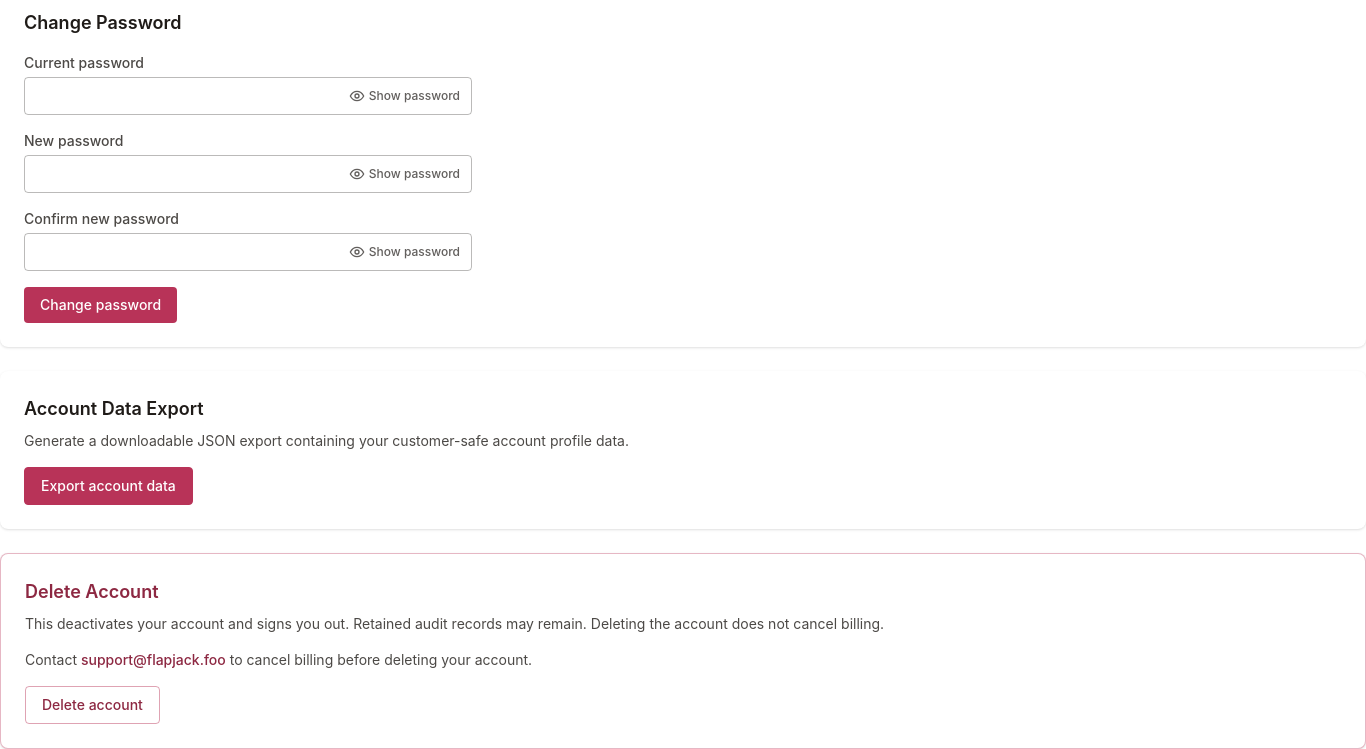
Test case: Account page › resets delete password and confirmation state on cancel before reopening panel
(page scrolled)
Click the button with test id "delete-account-open": [92, 705] box [25,686,160,724]
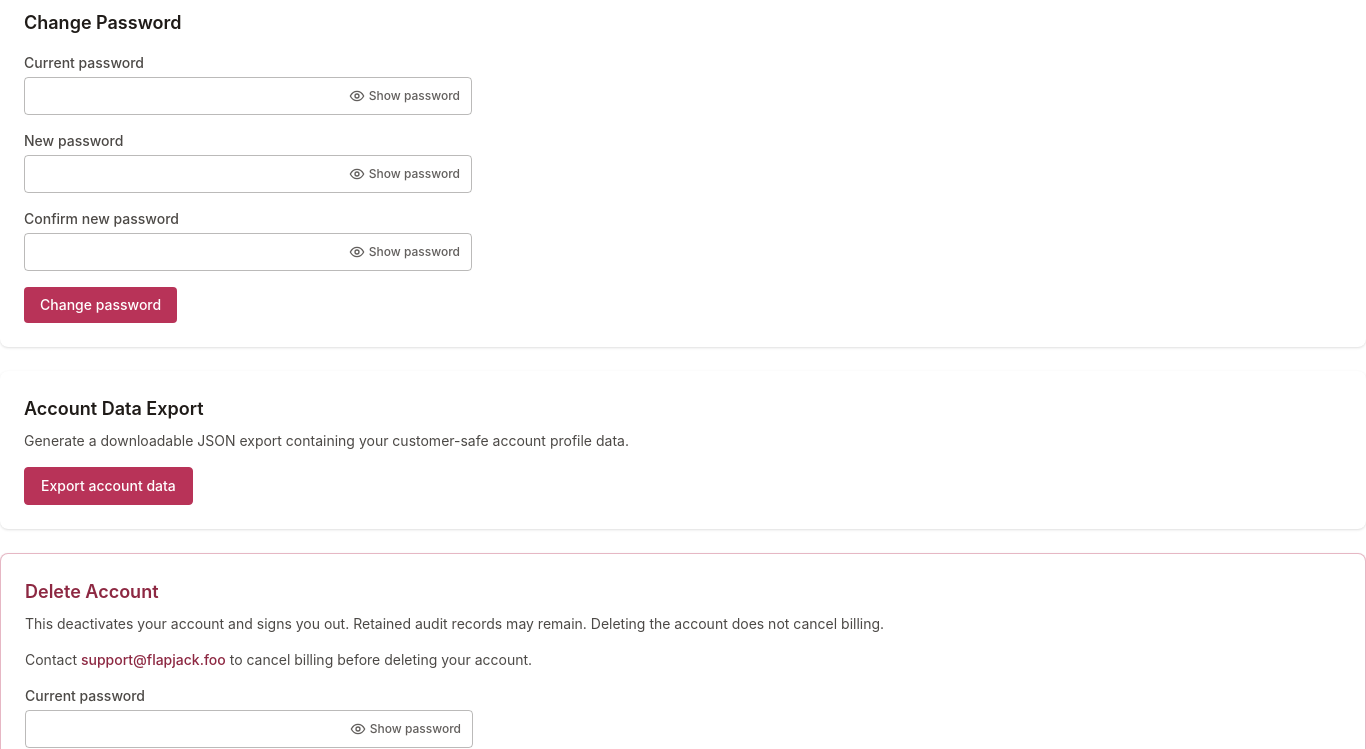
In the password field with test id "delete-account-password": [249, 729] box [25,710,473,748], type "current-password-123"
(page scrolled)
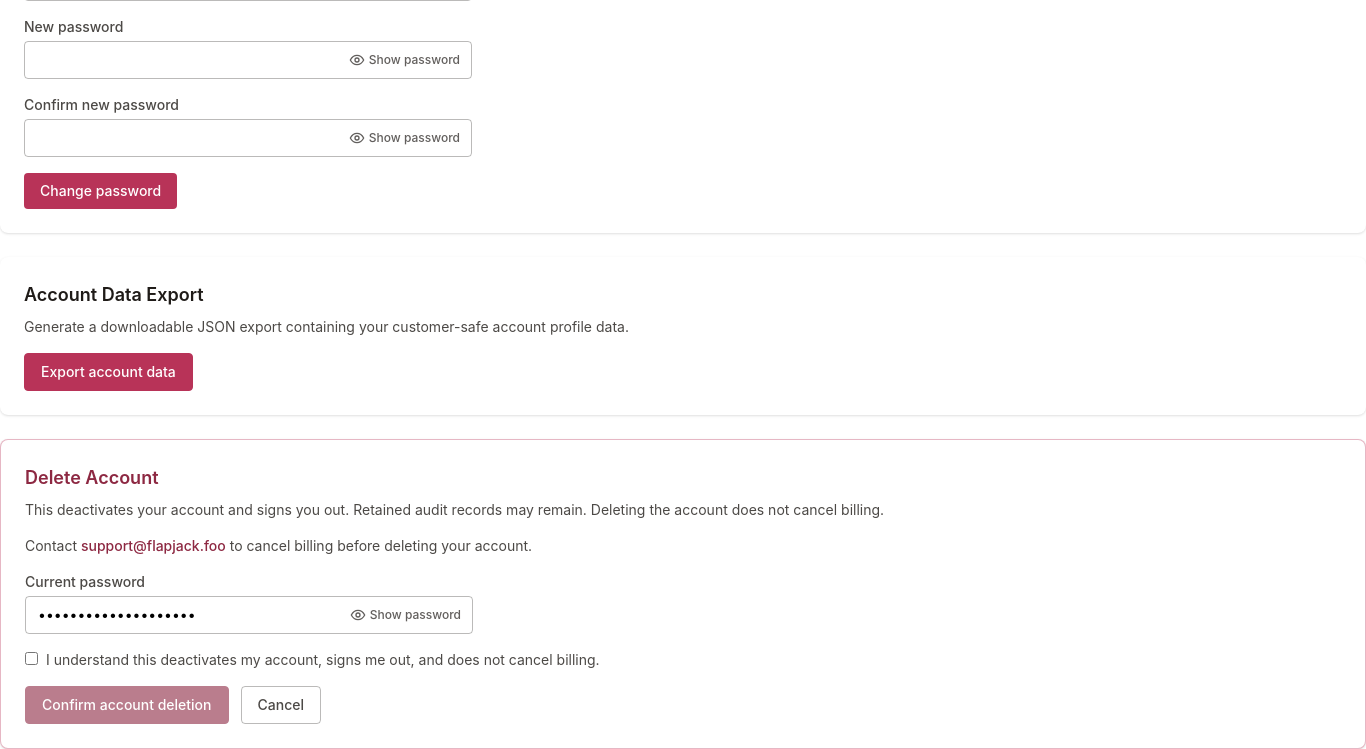
Click the checkbox with test id "delete-account-confirm": [32, 658] box [25,652,38,665]
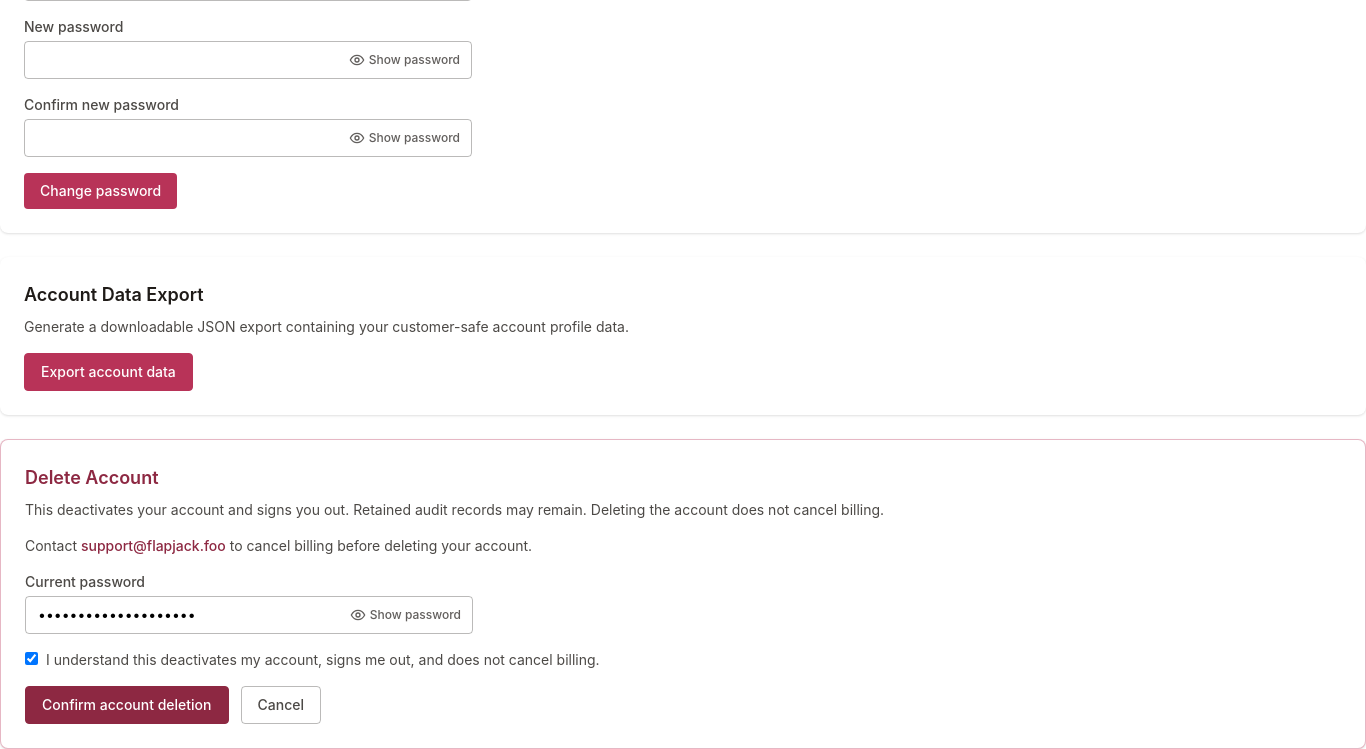
Now the button with test id "delete-account-submit" is enabled, box [25,686,228,724]
Click the button with test id "delete-account-cancel": [281, 705] box [240,686,321,724]
(page scrolled)
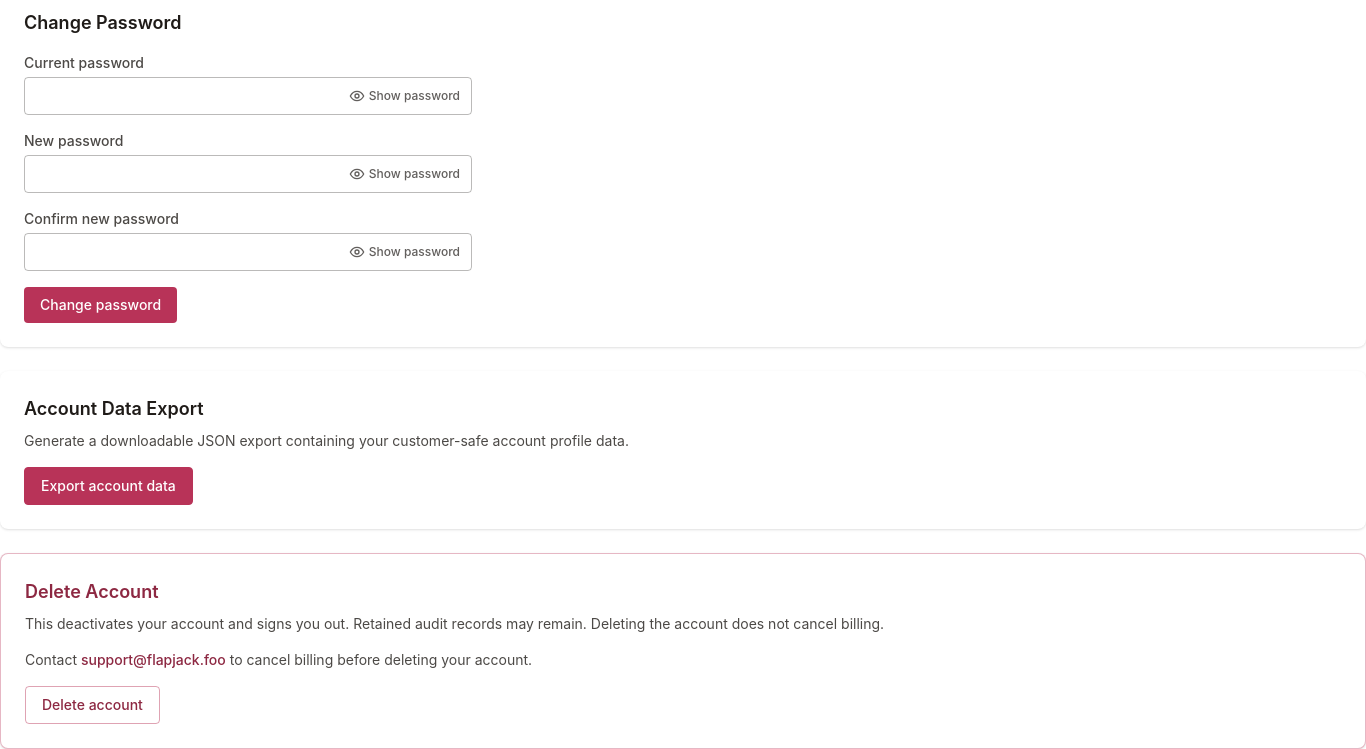
Now the button with test id "delete-account-open" is shown
Now the button with test id "delete-account-submit" is gone
Click the button with test id "delete-account-open": [92, 705] box [25,686,160,724]
(page scrolled)
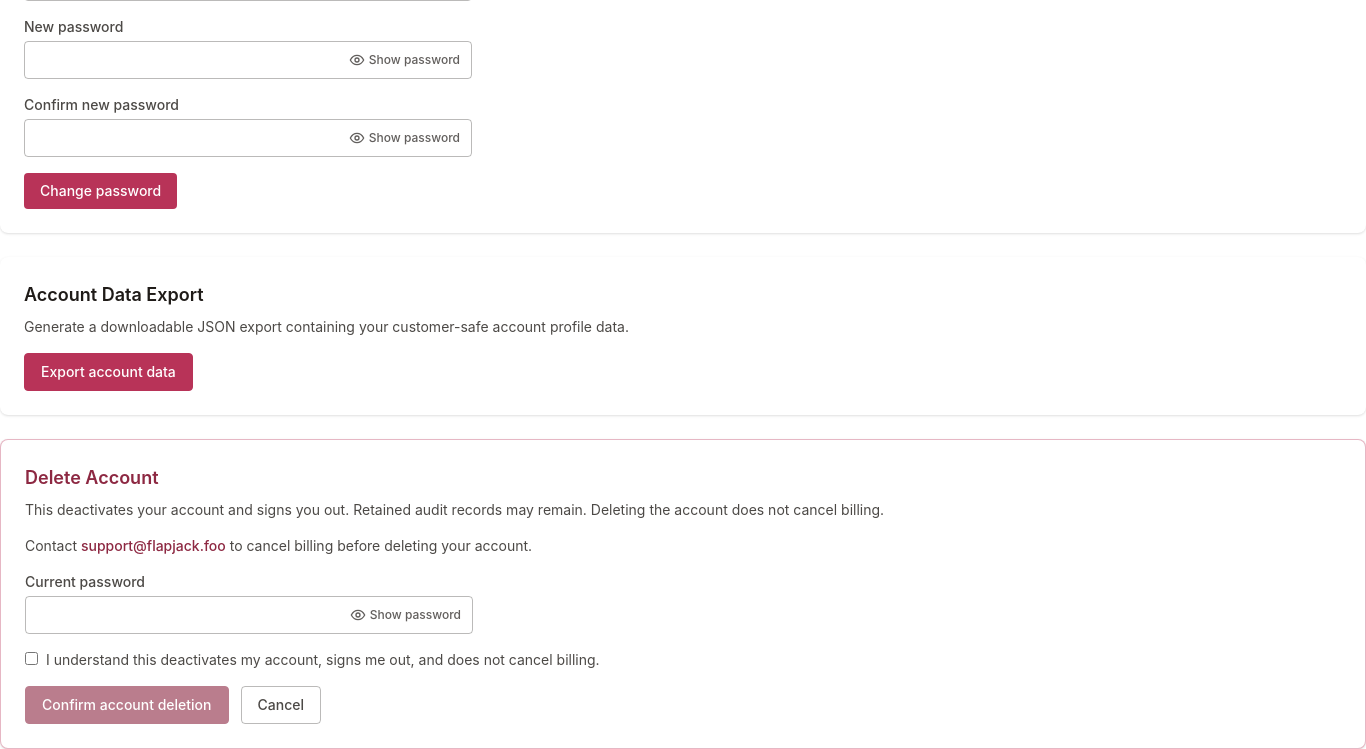
Now the password field with test id "delete-account-password" is empty, box [25,596,473,634]
Now the checkbox with test id "delete-account-confirm" is not checked, box [25,652,38,665]
Now the button with test id "delete-account-submit" is disabled, box [25,686,228,724]
